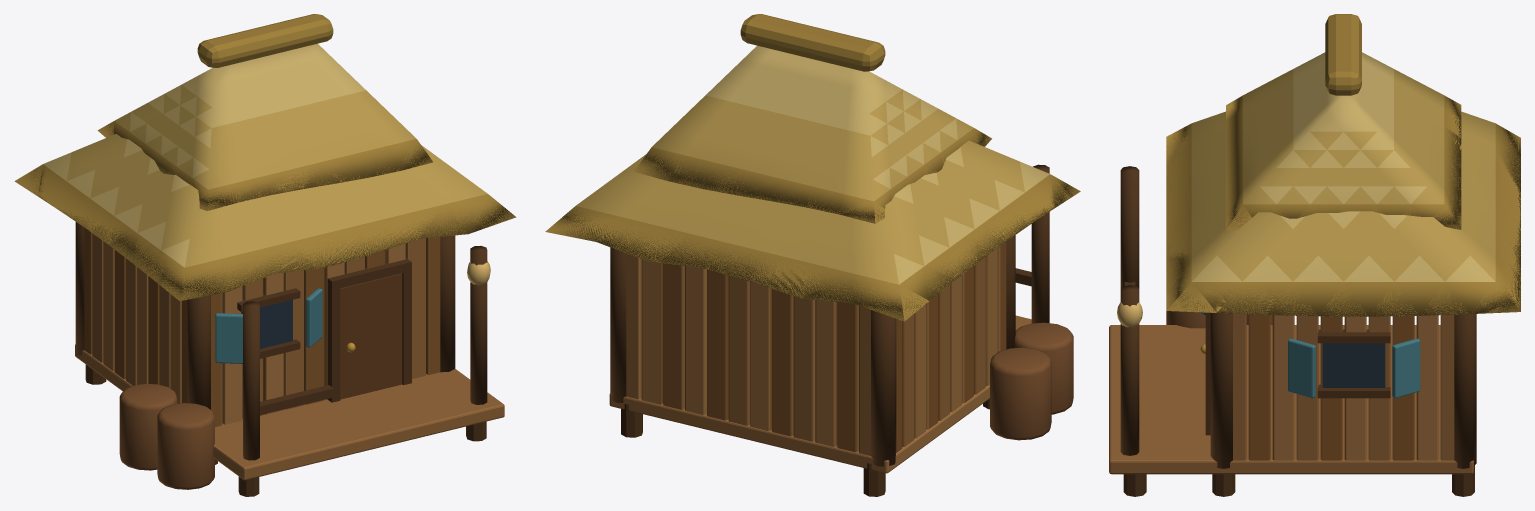
The model's file is hut.glb.
3 views of the same model, side by side, from view 1: azimuth 30°, elevation 25°; view 2: azimuth 150°, elevation 25°; view 3: azimuth 270°, elevation 25° (orthographic). The views are drawn at different scales.
Visible parts, largest first — view 1: Hut; view 2: Hut; view 3: Hut.
Part boxes in pixels (x1,y1,x2,y2): Hut: (14, 14, 516, 496); Hut: (545, 14, 1080, 496); Hut: (1109, 14, 1520, 496).
Size of the model in its own units: 0.8285 by 0.825 by 0.79.
